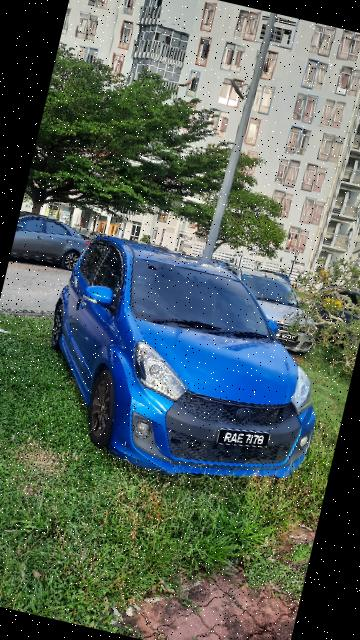License_Plate: (214, 422, 274, 456)
car: (27, 228, 349, 502)
